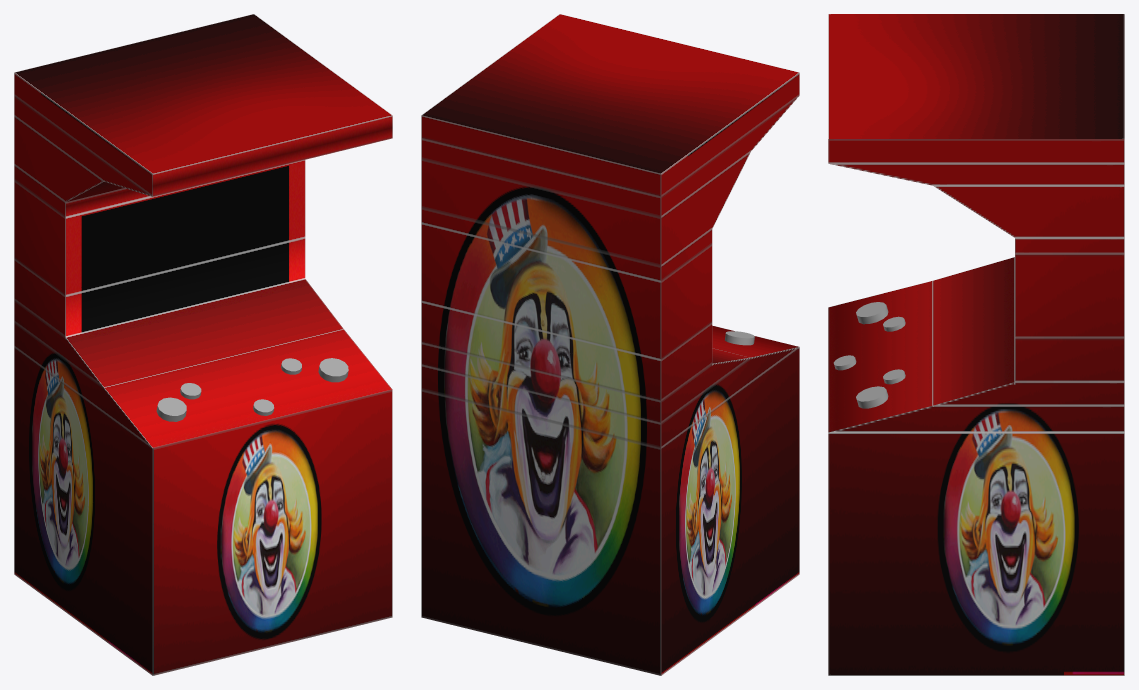
Rendered from arcade_clown_game.fbx.
3 renders of one model, left to right at view 1: azimuth 30°, elevation 25°; view 2: azimuth 150°, elevation 25°; view 3: azimuth 270°, elevation 25°, orthographic. The views are drawn at different scales.
Visible parts, largest first — view 1: pCube11, polySurface6; view 2: pCube11; view 3: pCube11, polySurface6.
Part boxes in pixels (left/top/right/bottom): pCube11: left=14, top=14, right=392, bottom=675; polySurface6: left=156, top=358, right=348, bottom=421; pCube11: left=421, top=14, right=799, bottom=675; pCube11: left=828, top=14, right=1124, bottom=675; polySurface6: left=833, top=302, right=905, bottom=408.
Size of the model in its own units: 50 by 100 by 50.
Materials: 2 (1 with a texture image).
